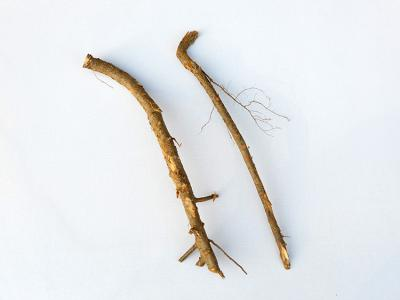Root: (83, 54, 224, 278), (177, 30, 290, 269)
